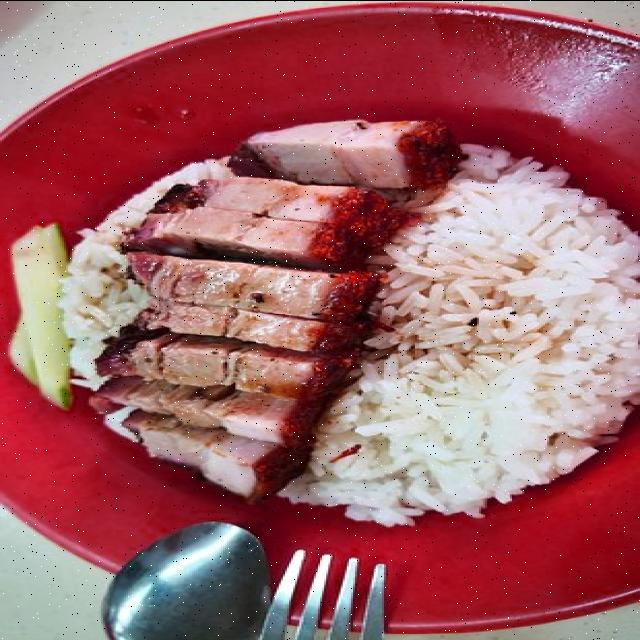Green veg: (8, 223, 70, 407)
Pork: (91, 120, 456, 500)
Rice: (279, 147, 636, 524), (60, 159, 229, 390)
